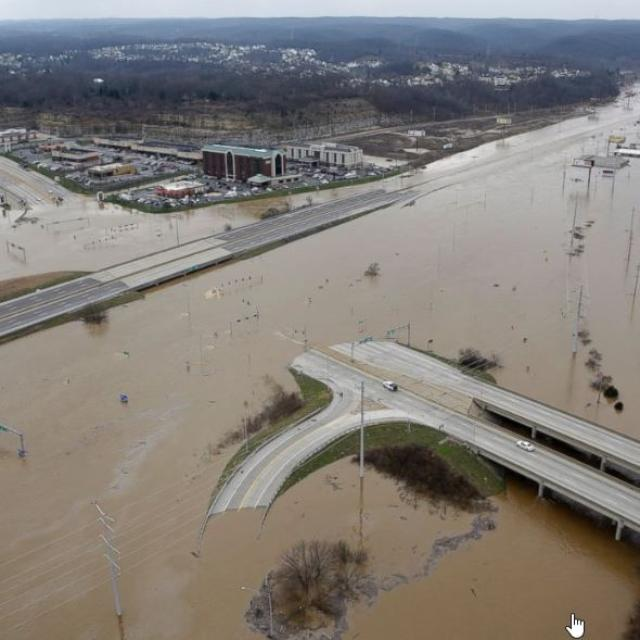flooded_areas: (0, 87, 632, 639)
